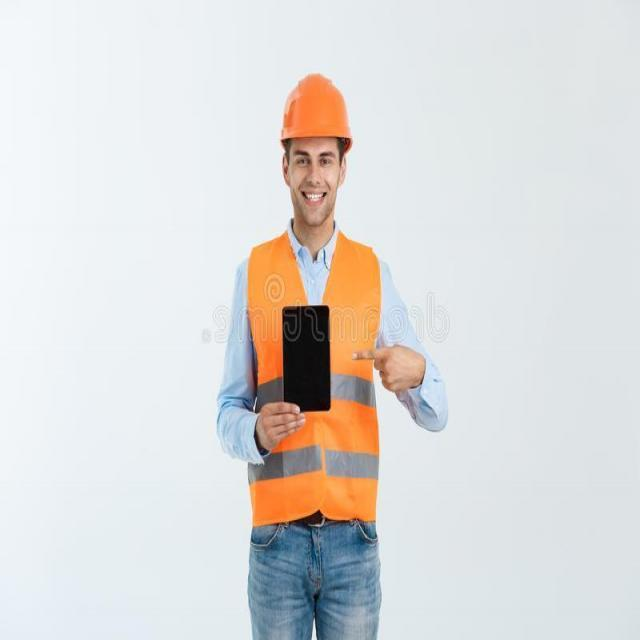reflective_jacket: (241, 234, 390, 530)
safety_helmet: (276, 67, 356, 151)
